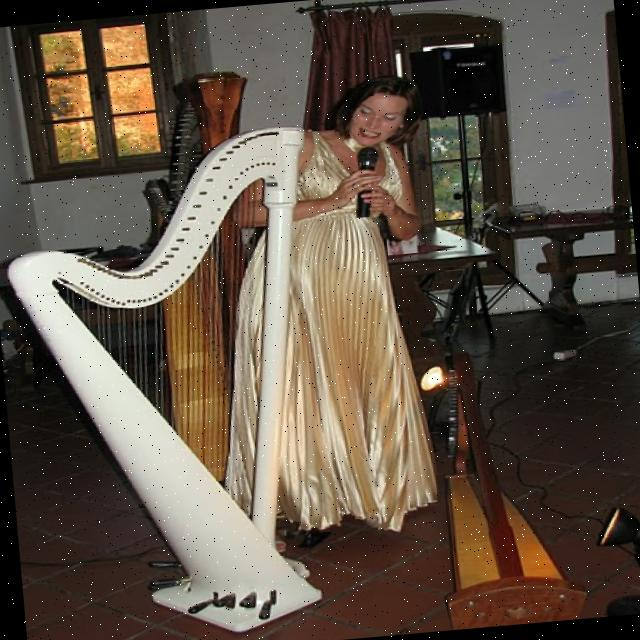harp: (0, 121, 357, 640)
